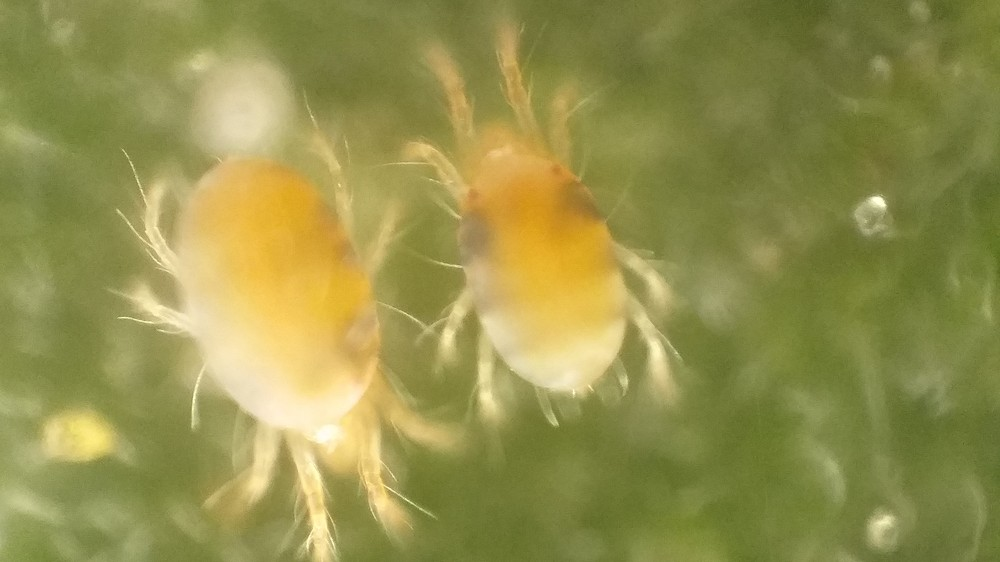Aracnido Rojo: (105, 115, 442, 556), (399, 18, 721, 453)
